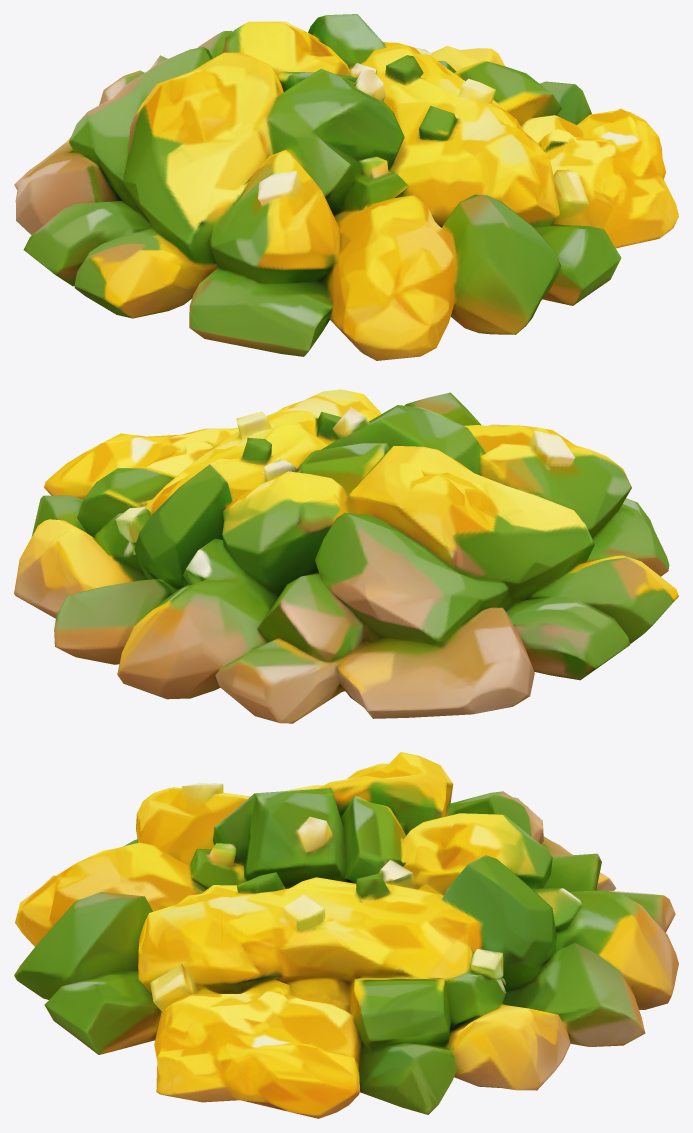
File: base_basic_shaded.fbx
The picture shows the model from 3 angles, top to bottom: view 1: azimuth 30°, elevation 25°; view 2: azimuth 150°, elevation 25°; view 3: azimuth 270°, elevation 25°; orthographic projection. The views are drawn at different scales.
Visible parts, largest first — view 1: model; view 2: model; view 3: model.
Boxes of the visible parts, box(x1,y1,x2,y2) form: model: box(14, 14, 678, 360); model: box(14, 389, 678, 723); model: box(14, 752, 678, 1118).
Size of the model in its own units: 180 by 51.76 by 174.
